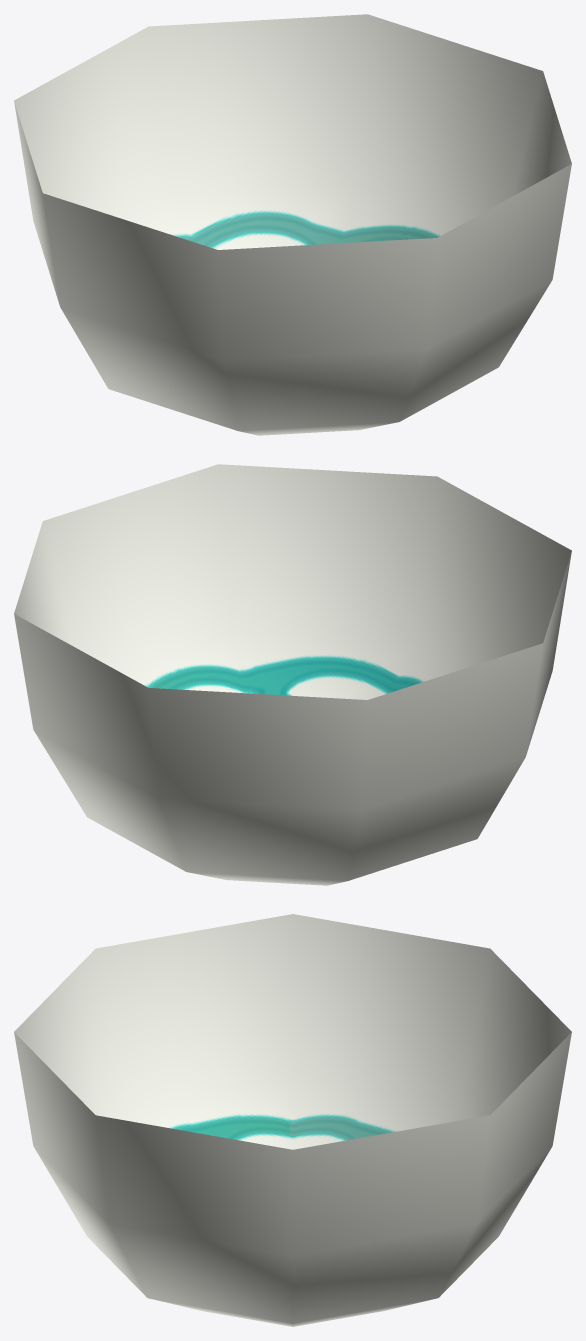
The model's file is China_Bowl_B.FBX.
3 renders of one model, top to bottom at view 1: azimuth 30°, elevation 25°; view 2: azimuth 150°, elevation 25°; view 3: azimuth 270°, elevation 25°, orthographic. The views are drawn at different scales.
Parts seen in each view (by area): view 1: Bowl; view 2: Bowl; view 3: Bowl.
Part boxes in pixels (x1,y1,x2,y2): Bowl: (14,14,571,435); Bowl: (14,464,571,885); Bowl: (14,914,571,1326).
Bounding box in the file's own units: 49.56 × 23.64 × 49.56.
